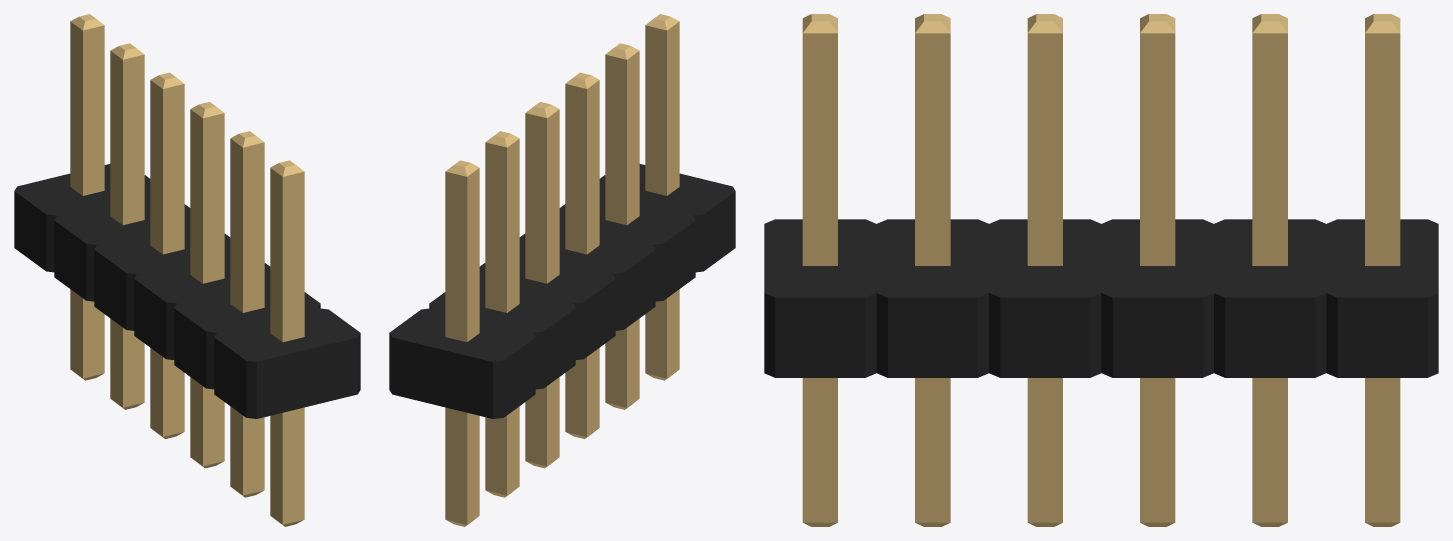
File: PinHeader_1x06_P1.27mm_Vertical.glb
The picture shows the model from 3 angles, left to right: view 1: azimuth 30°, elevation 25°; view 2: azimuth 150°, elevation 25°; view 3: azimuth 270°, elevation 25°; orthographic projection. The views are drawn at different scales.
Parts seen in each view (by area): view 1: =>[0:1:1:3]; view 2: =>[0:1:1:3]; view 3: =>[0:1:1:3].
Part boxes in pixels (bbox=[...]): =>[0:1:1:3]: bbox=[14, 14, 360, 526]; =>[0:1:1:3]: bbox=[389, 14, 735, 526]; =>[0:1:1:3]: bbox=[764, 14, 1438, 526].
Size of the model in its own units: 0.0021 by 0.0063 by 0.00762.
